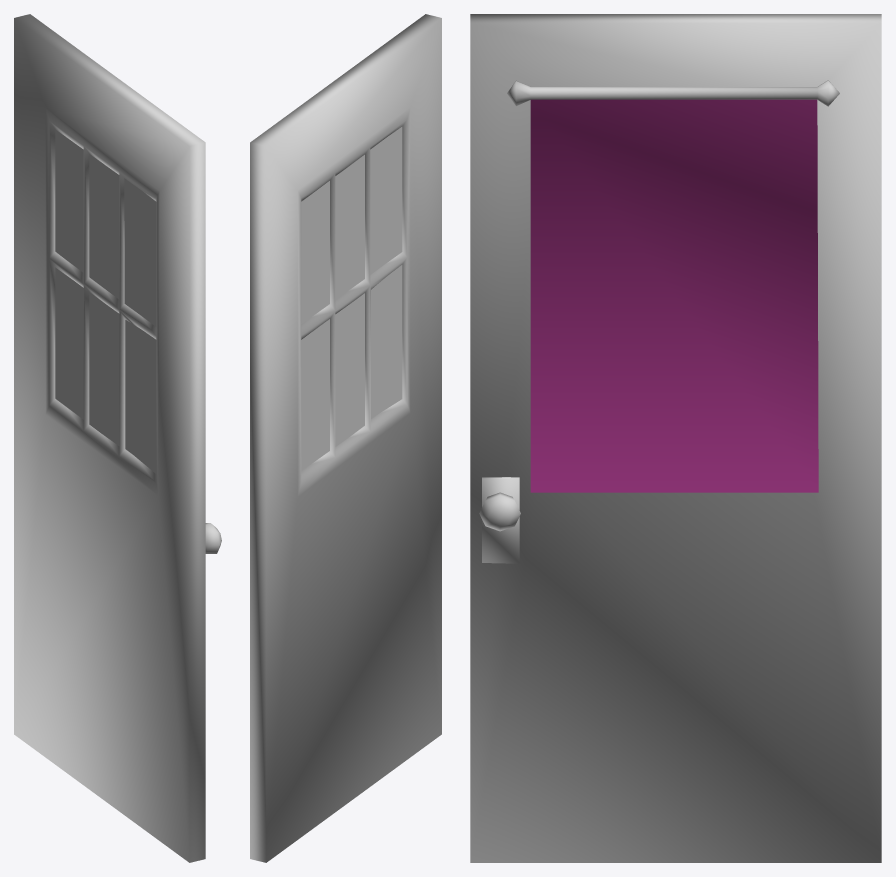
File: door.fbx
3 renders of one model, left to right at view 1: azimuth 30°, elevation 25°; view 2: azimuth 150°, elevation 25°; view 3: azimuth 270°, elevation 25°, orthographic. The views are drawn at different scales.
Visible parts, largest first — view 1: DoorFrame.001; view 2: DoorFrame.001; view 3: DoorFrame.001.
Part boxes in pixels (<box>): DoorFrame.001: <box>14,14,221,862</box>; DoorFrame.001: <box>250,14,441,862</box>; DoorFrame.001: <box>470,14,881,862</box>.
Size of the model in its own units: 18.92 by 306 by 136.
